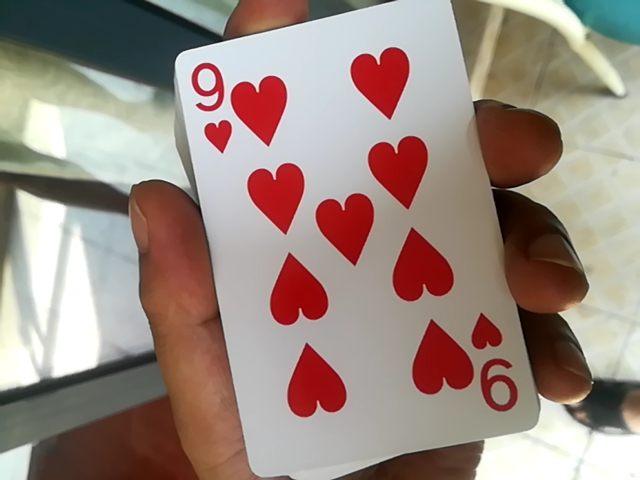hx 9: (187, 3, 552, 477)
